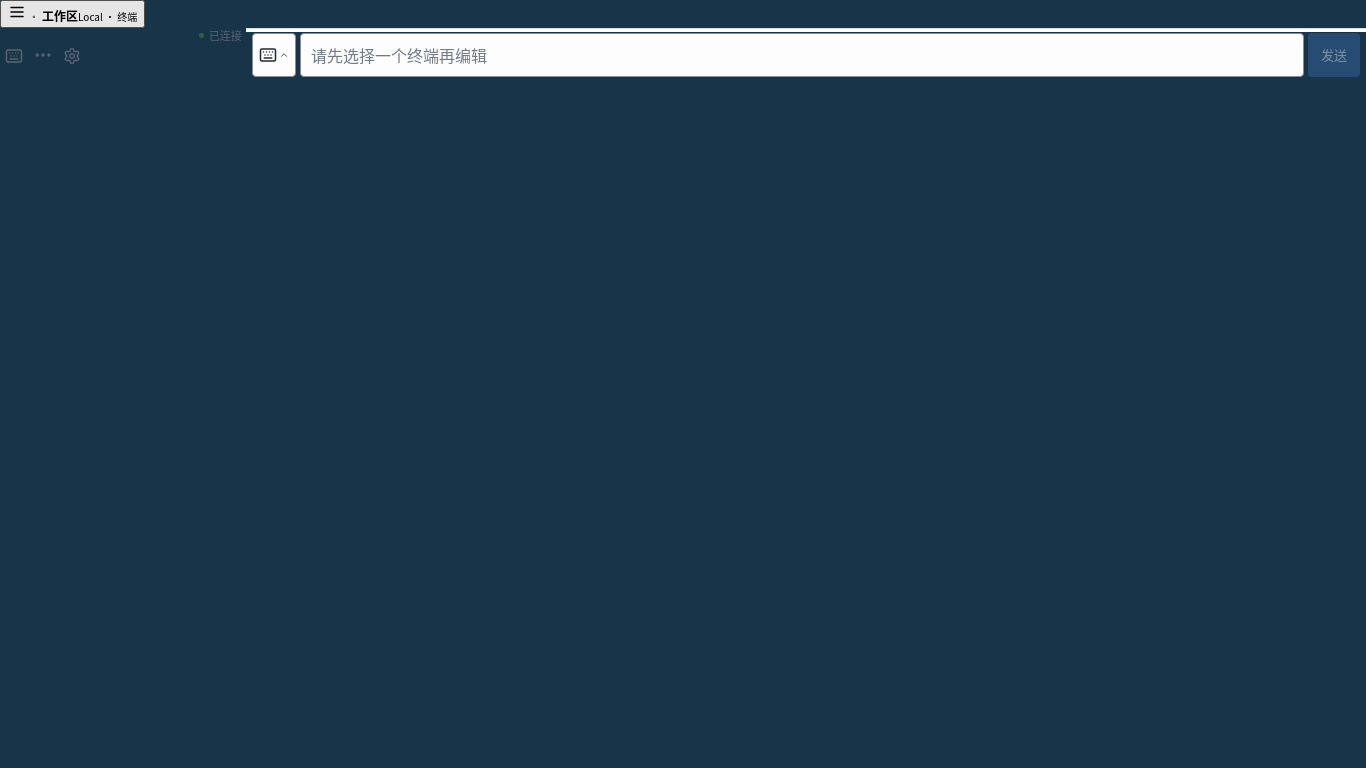
Test case: workbench composer › keeps a failed workspace creation visible inside the mobile switcher
The image size is (1366, 768).
Click the button with aria-label "切换工作区或终端": (73, 14) [0,0,145,28]
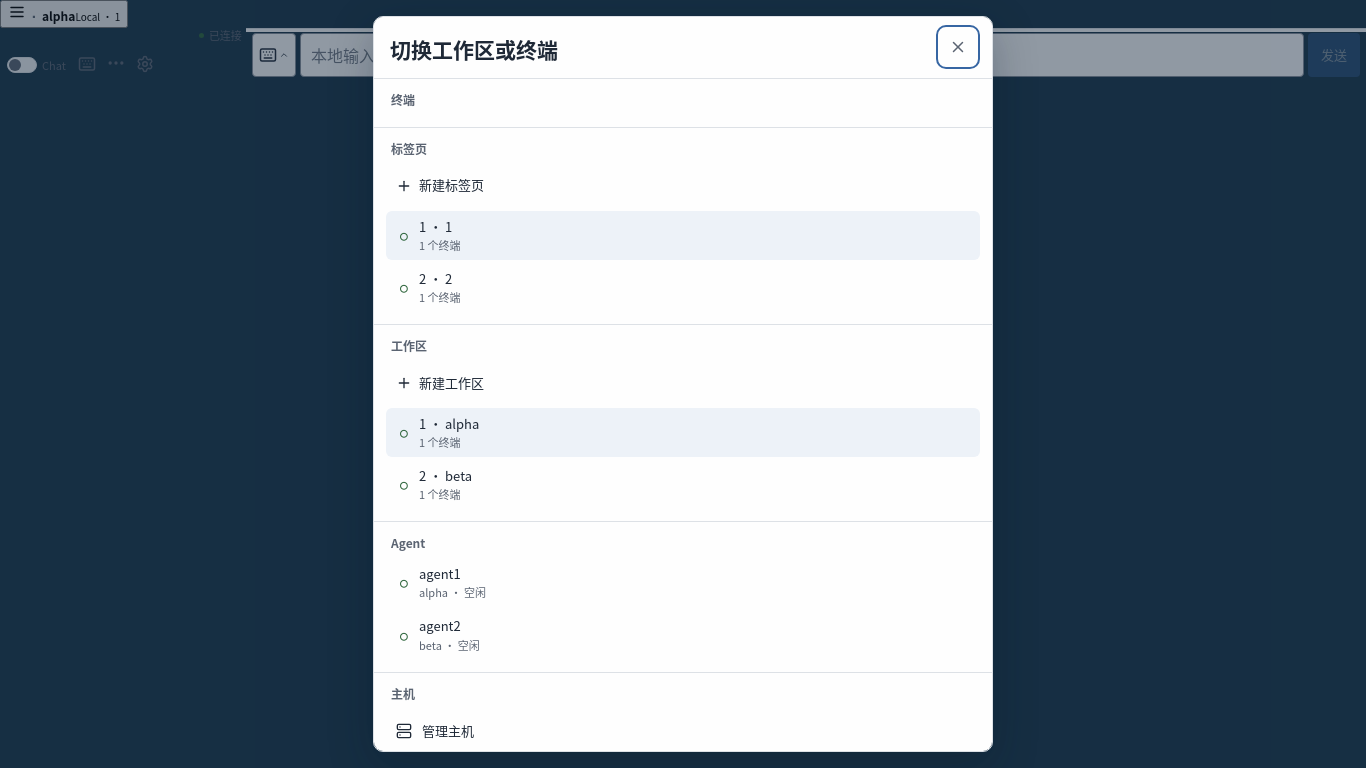
Click the button "新建工作区": (452, 382) [386,361,980,405]
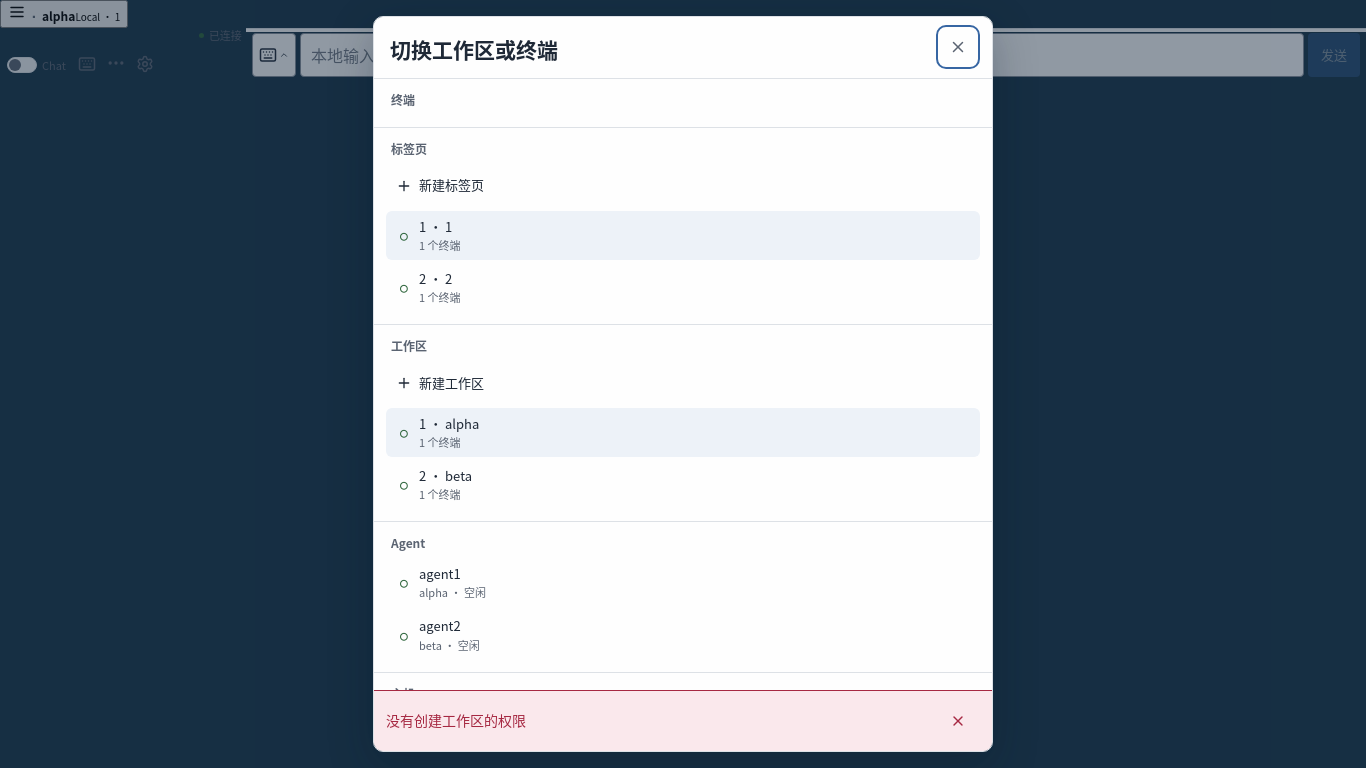
Result: the button "新建工作区" is enabled at [386,361,980,405]
Result: the message reads "没有创建工作区的权限" at [386,710,526,730]
